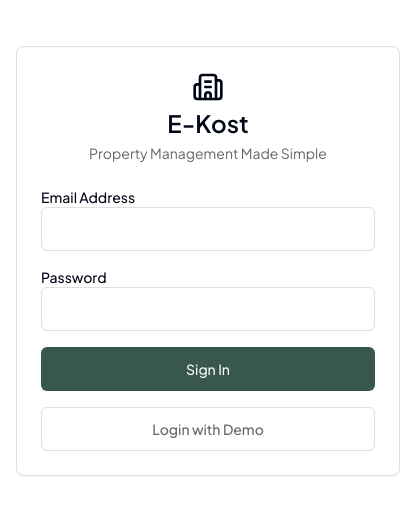
Scenario: LoginForm › demo login › shows server error when demo login endpoint returns an error
The image size is (417, 523).
Click the button "Login with Demo" at (208, 429), box [41,407,375,451]
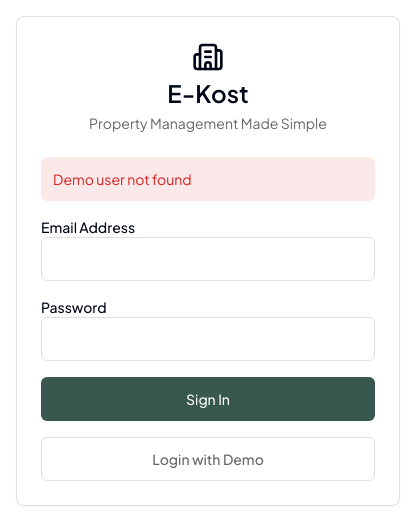
Now the text "Demo user not found" is shown, box [41,157,375,201]
